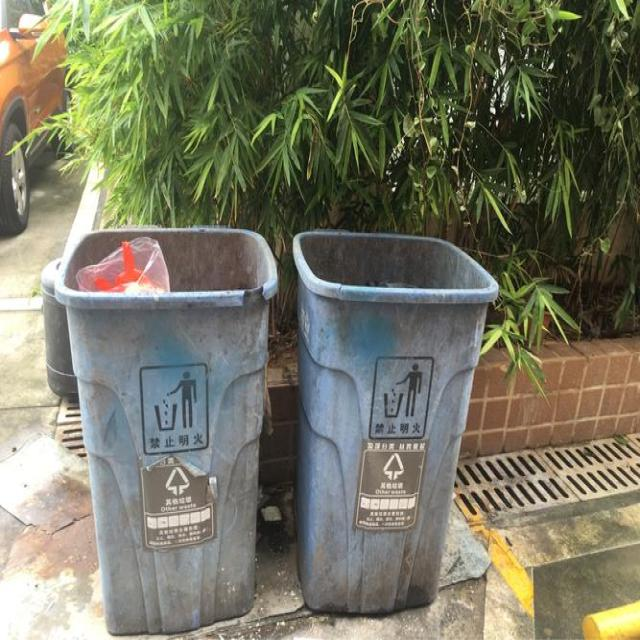garbage_bin: (54, 224, 276, 632), (291, 228, 498, 612)
